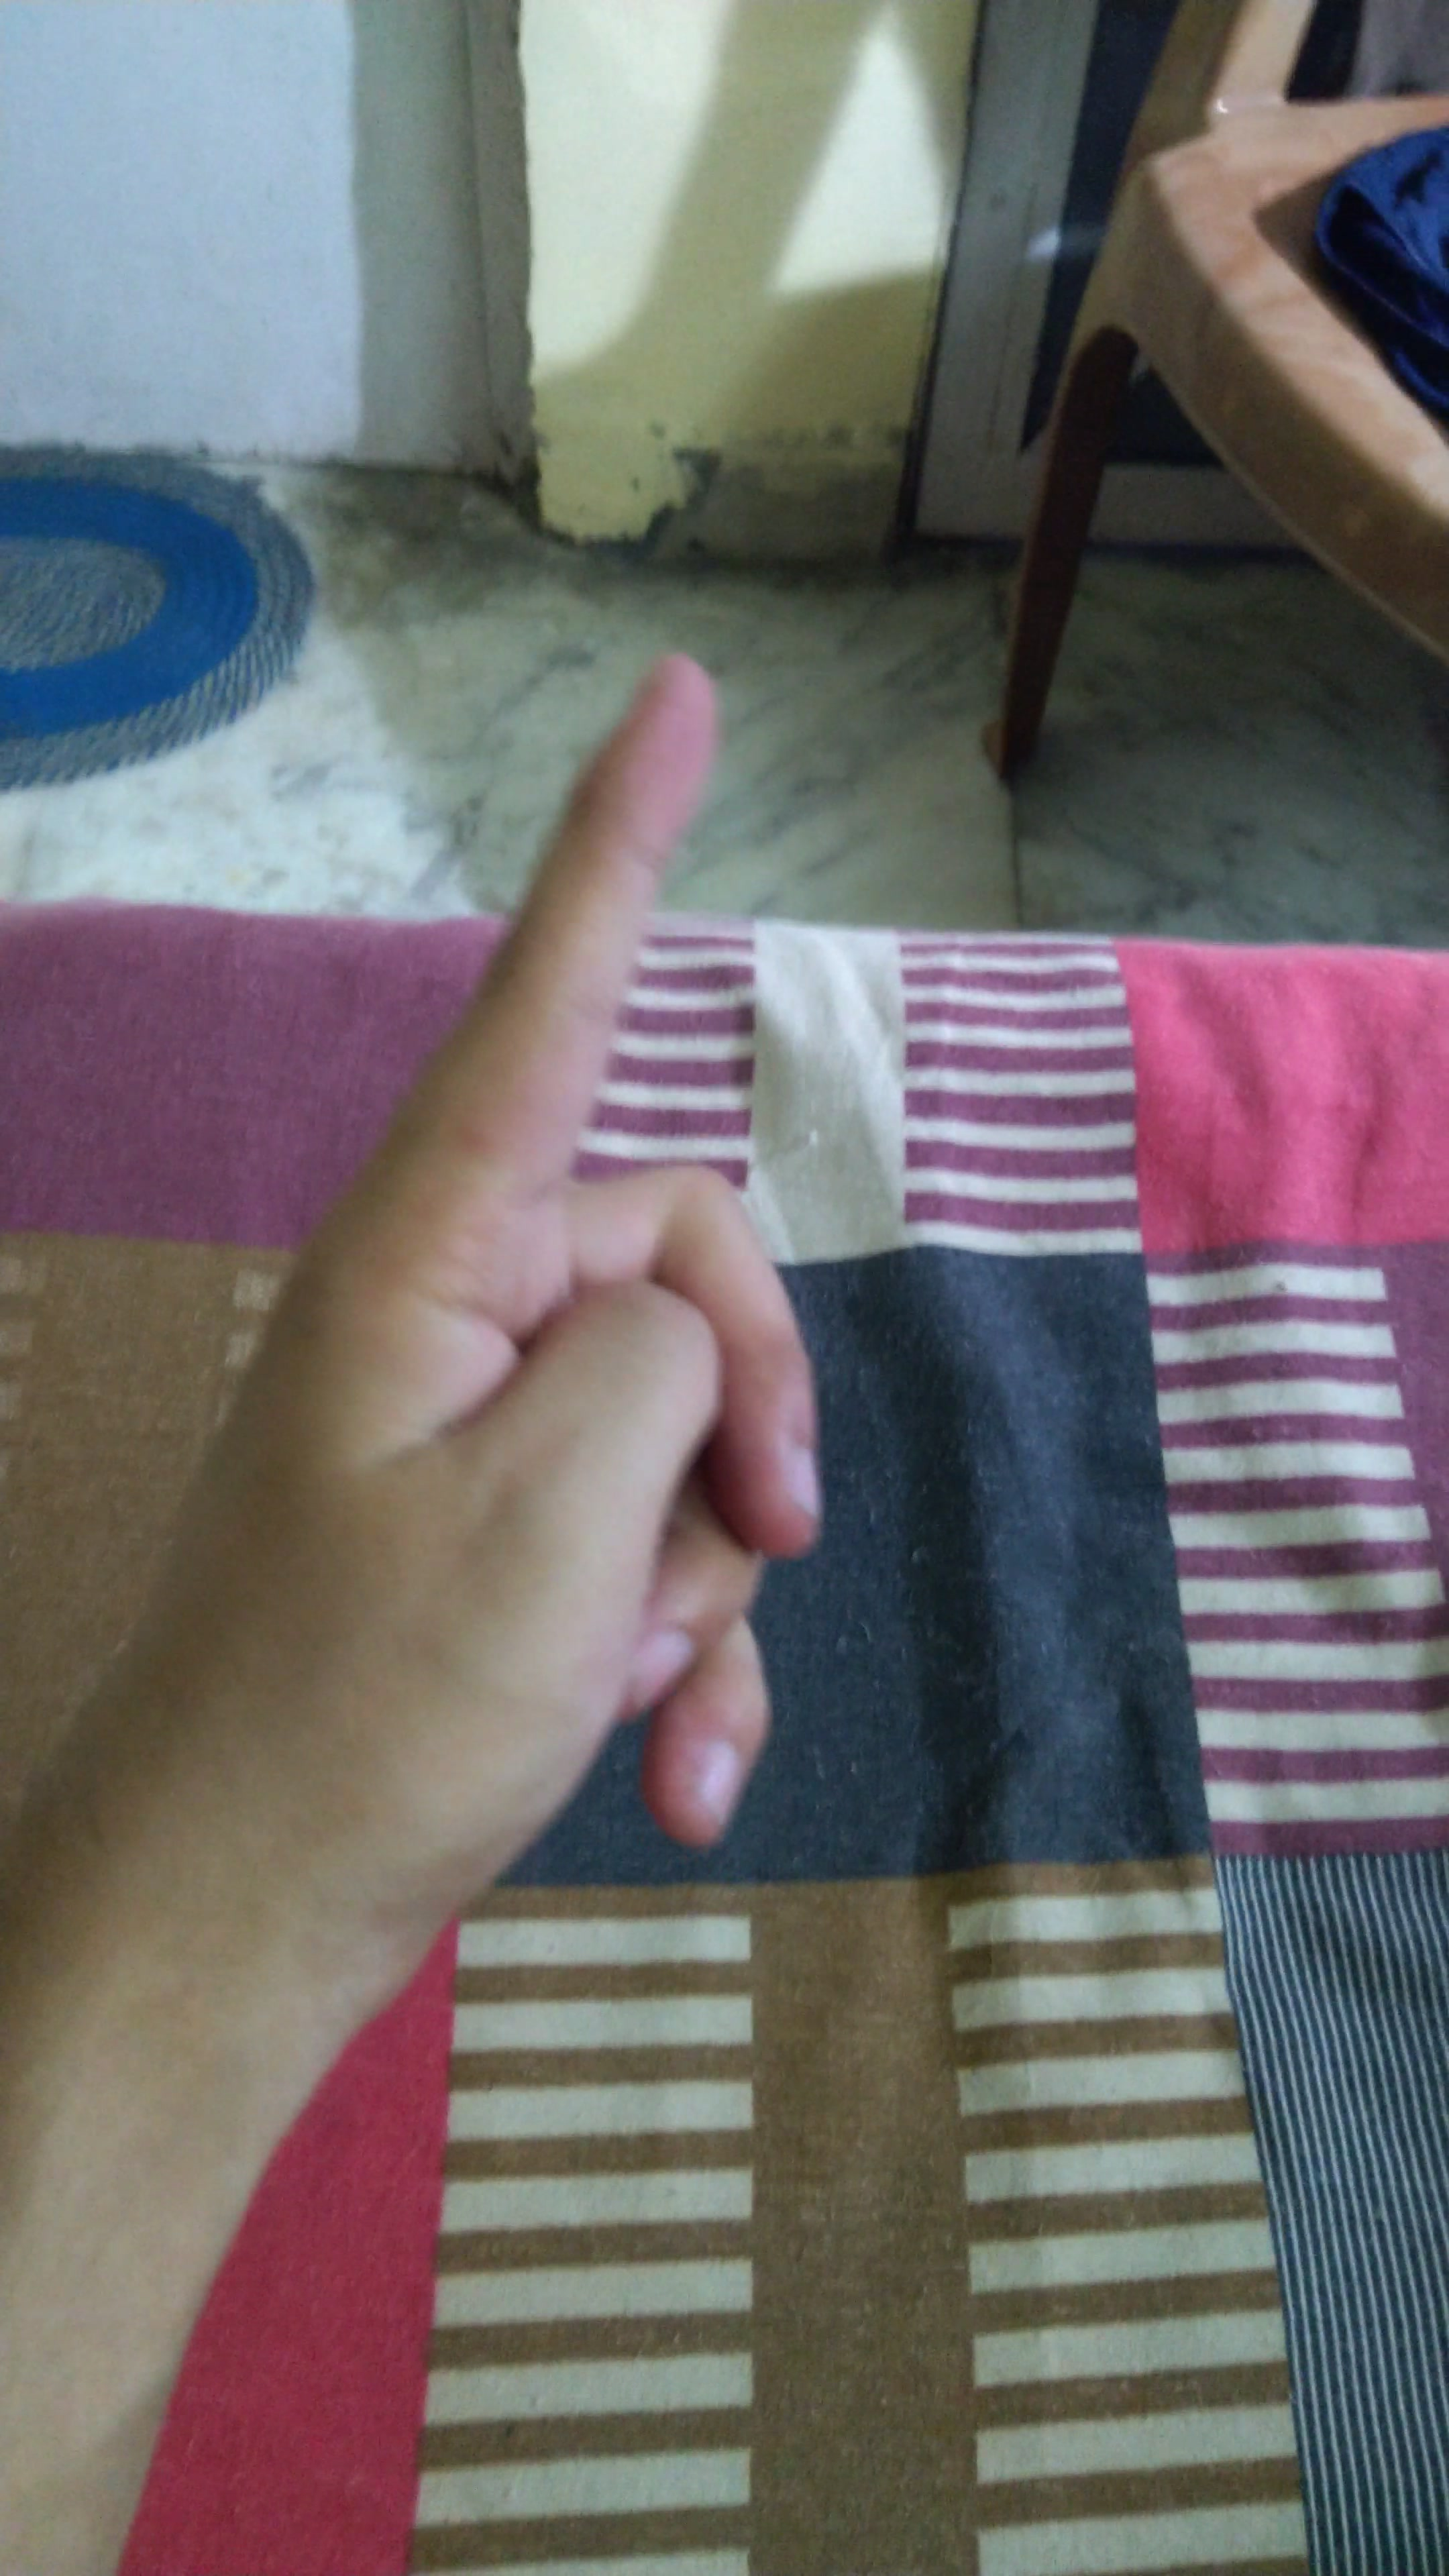hand: (145, 616, 922, 2005)
